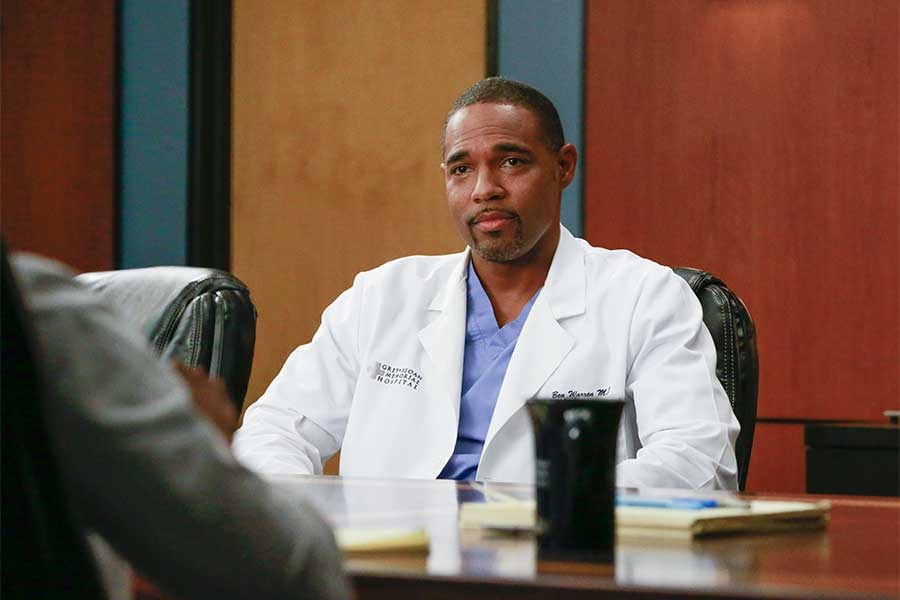no_mask: (445, 189, 563, 263)
